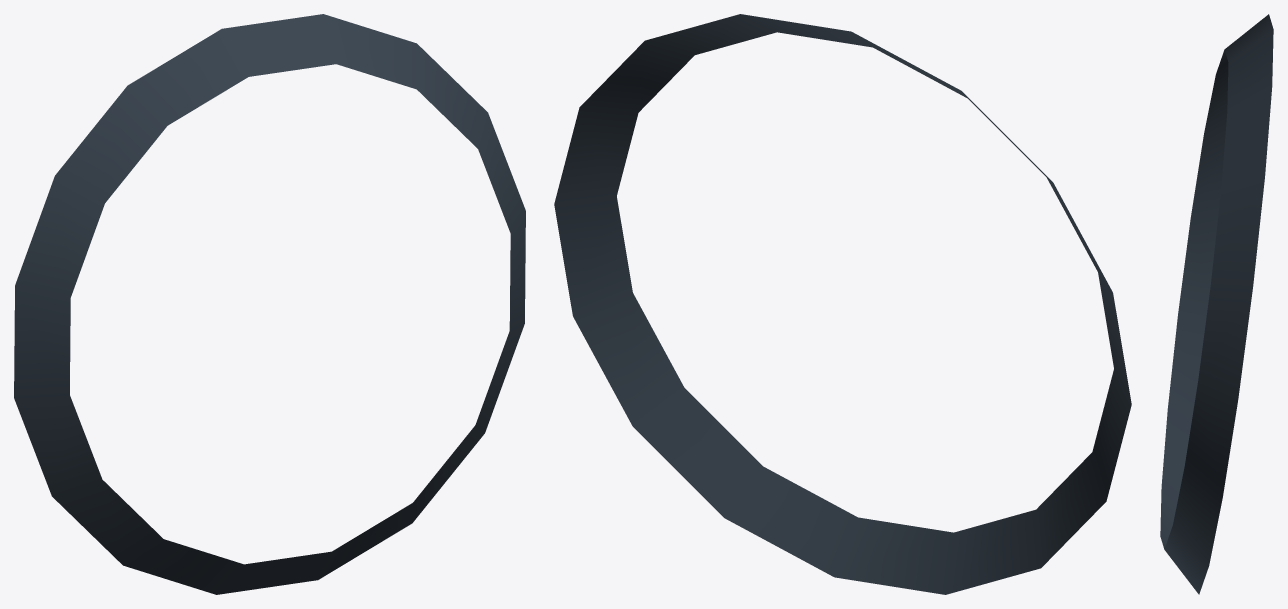
File: original-11.obj
3 views of the same model, side by side, from view 1: azimuth 30°, elevation 25°; view 2: azimuth 150°, elevation 25°; view 3: azimuth 270°, elevation 25° (orthographic). The views are drawn at different scales.
Visible parts, largest first — view 1: #ID22; view 2: #ID22; view 3: #ID22.
Part boxes in pixels (x1,y1,x2,y2): #ID22: [14, 14, 525, 594]; #ID22: [554, 14, 1131, 594]; #ID22: [1160, 14, 1273, 594].
Size of the model in its own units: 0.2055 by 0.2036 by 0.0399.
